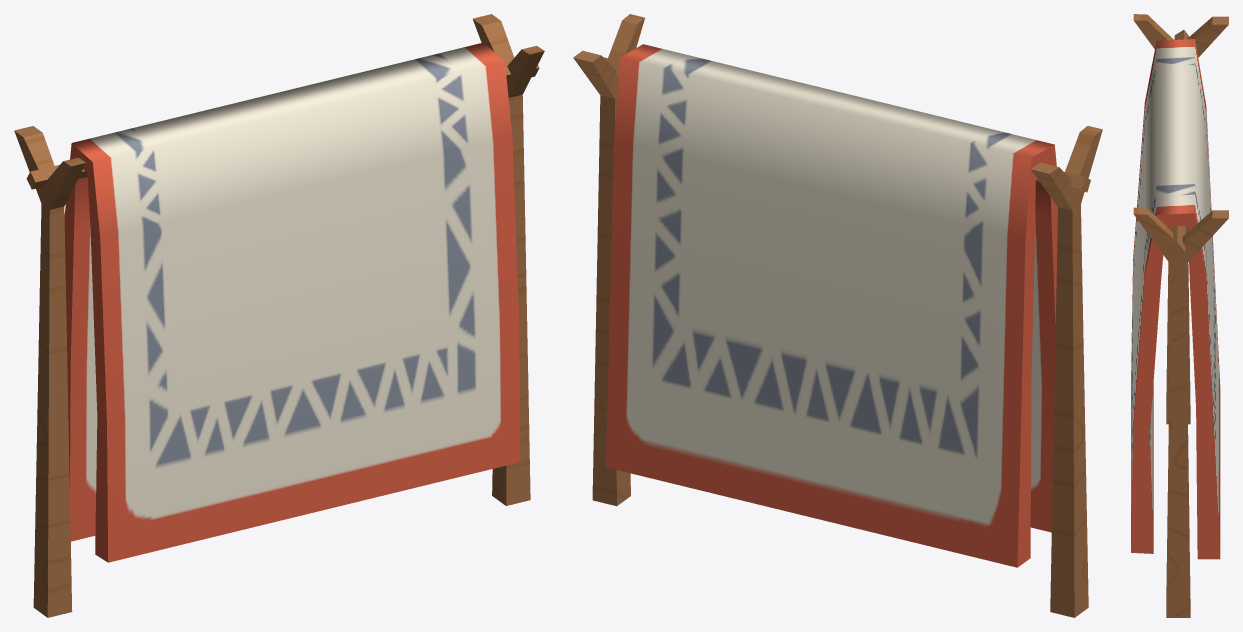
Rendered from ClothHanger.fbx.
3 renders of one model, left to right at view 1: azimuth 30°, elevation 25°; view 2: azimuth 150°, elevation 25°; view 3: azimuth 270°, elevation 25°, orthographic. The views are drawn at different scales.
Parts seen in each view (by area): view 1: ClothHanger; view 2: ClothHanger; view 3: ClothHanger.
Boxes of the visible parts, box(x1,y1,x2,y2) form: ClothHanger: box(14, 14, 544, 617); ClothHanger: box(573, 14, 1102, 617); ClothHanger: box(1131, 14, 1228, 617).
Size of the model in its own units: 240 by 213 by 47.13.
2 materials, 2 textured.
